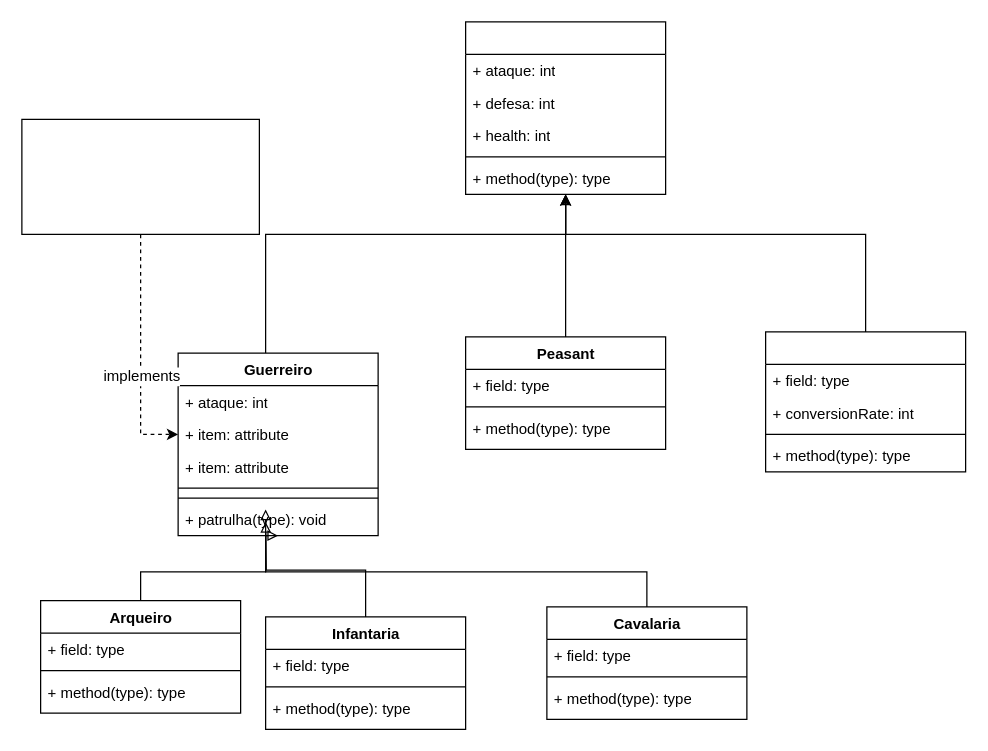
Some shapes in this 988 by 751 pixel diagram are drawn without their labels. The box of each missing label's shape, as (x1, y1, x2, y2) in pixels:
<<Interface>> Luta + atacar(Type): Type + defender(Type, Type): Type: (21, 118, 259, 234)
Character: (464, 21, 666, 194)
Wololo: (764, 331, 966, 472)
